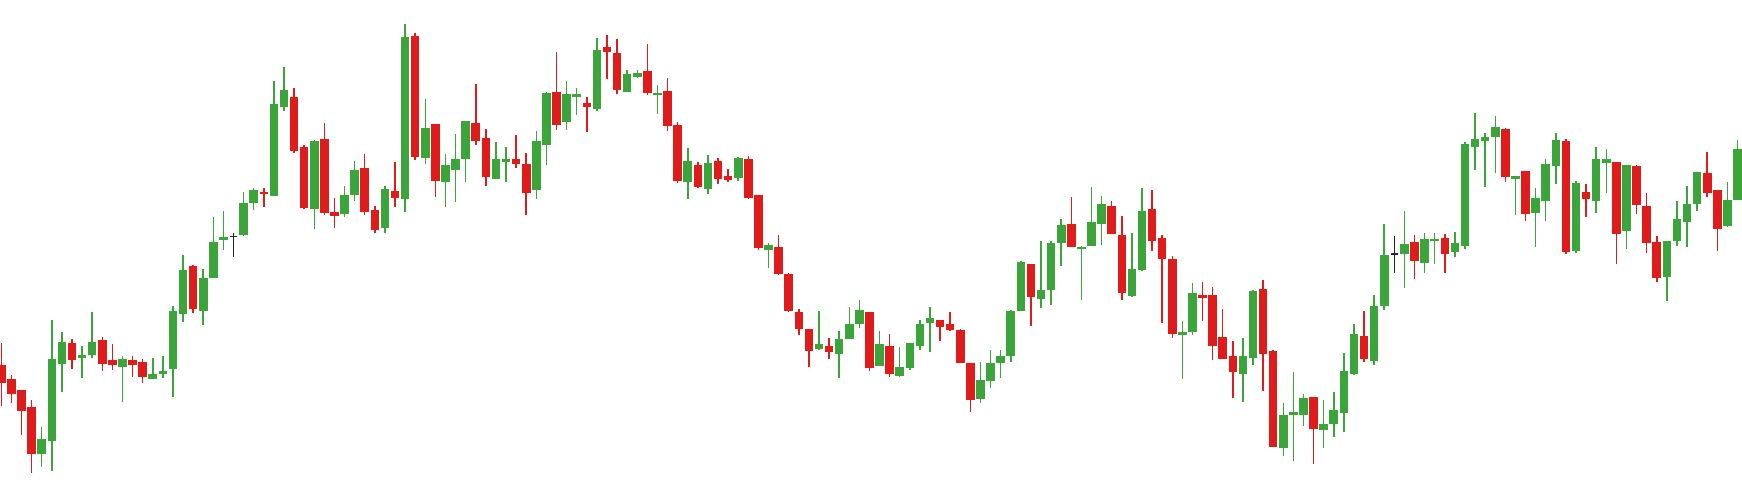buy: (1611, 148, 1671, 309), (894, 333, 997, 416)
sell: (278, 14, 422, 177), (551, 24, 624, 114), (1095, 182, 1157, 269)
